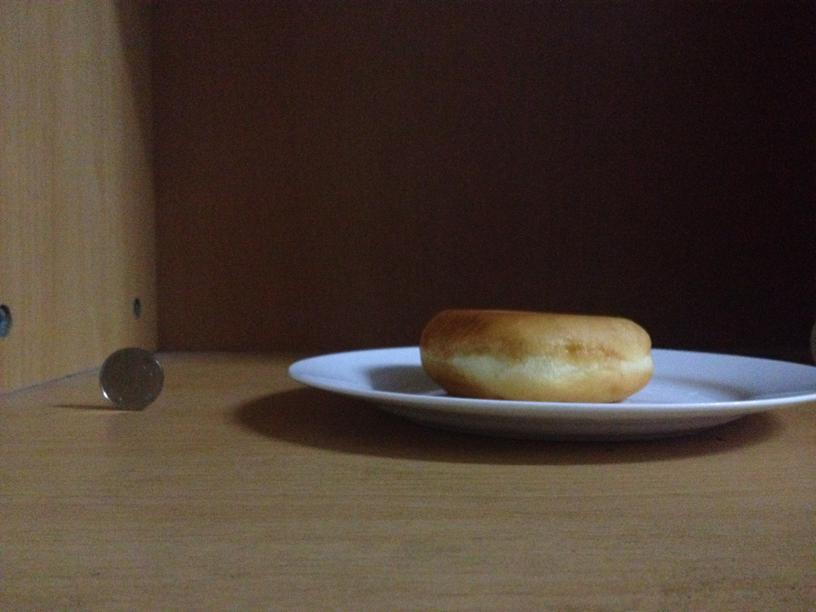coin: (96, 345, 164, 411)
doughnut: (413, 305, 655, 403)
